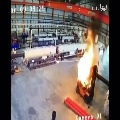fire: (77, 40, 94, 88)
